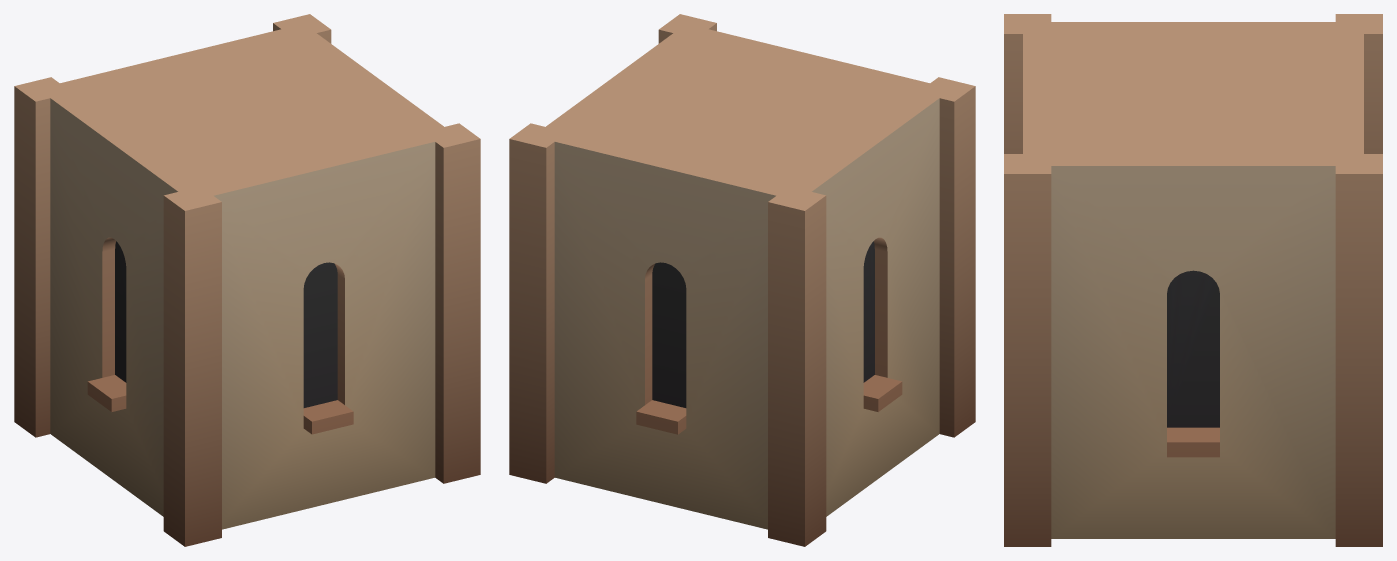
The model's file is tower-square-mid-windows.glb.
3 renders of one model, left to right at view 1: azimuth 30°, elevation 25°; view 2: azimuth 150°, elevation 25°; view 3: azimuth 270°, elevation 25°, orthographic. The views are drawn at different scales.
Visible parts, largest first — view 1: tower-square-mid-windows; view 2: tower-square-mid-windows; view 3: tower-square-mid-windows.
Part boxes in pixels (<box>): tower-square-mid-windows: <box>14,14,480,546</box>; tower-square-mid-windows: <box>509,14,975,546</box>; tower-square-mid-windows: <box>1004,14,1382,546</box>.
Size of the model in its own units: 2.76 by 3 by 2.76.
